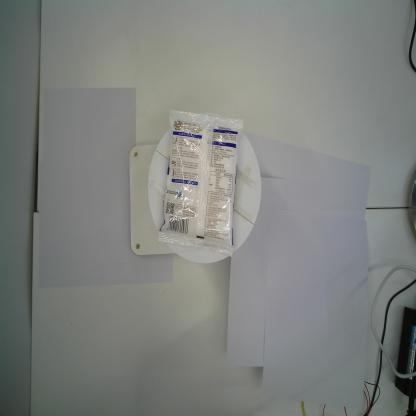Seasoner: (156, 108, 244, 258)
